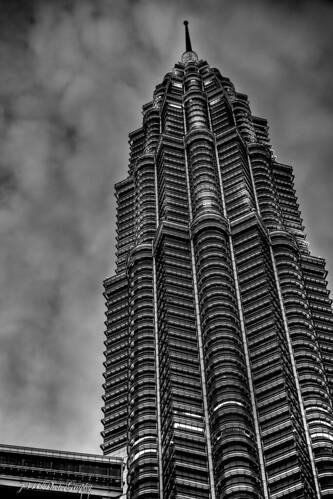building: (92, 16, 332, 496)
